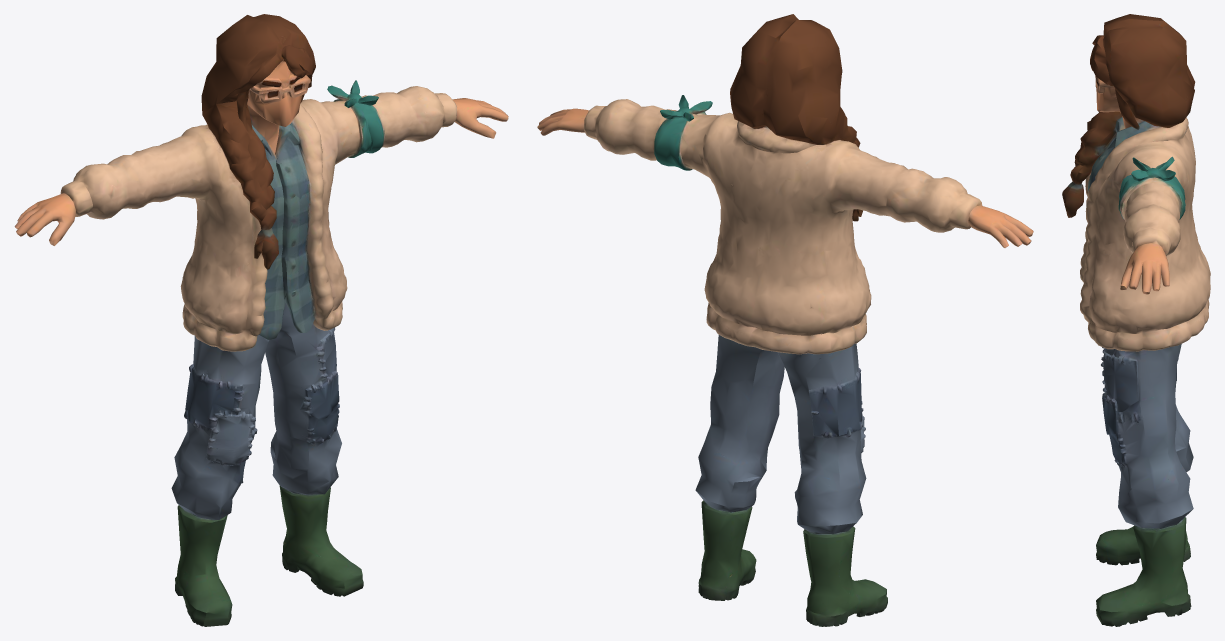
The model's file is char_ws_f_idle.glb.
The picture shows the model from 3 angles, left to right: view 1: azimuth 30°, elevation 25°; view 2: azimuth 150°, elevation 25°; view 3: azimuth 270°, elevation 25°; orthographic projection.
Parts seen in each view (by area): view 1: tripo_node_80f44b3a-6d5d-437e-a2ba-b1b93a31b15a; view 2: tripo_node_80f44b3a-6d5d-437e-a2ba-b1b93a31b15a; view 3: tripo_node_80f44b3a-6d5d-437e-a2ba-b1b93a31b15a.
Boxes of the visible parts, left/top/right/bottom form: tripo_node_80f44b3a-6d5d-437e-a2ba-b1b93a31b15a: left=14, top=14, right=508, bottom=626; tripo_node_80f44b3a-6d5d-437e-a2ba-b1b93a31b15a: left=537, top=14, right=1033, bottom=626; tripo_node_80f44b3a-6d5d-437e-a2ba-b1b93a31b15a: left=1062, top=14, right=1210, bottom=626.
Bounding box in the file's own units: 1.49 × 1.68 × 0.3983.
1 material, 1 textured.
